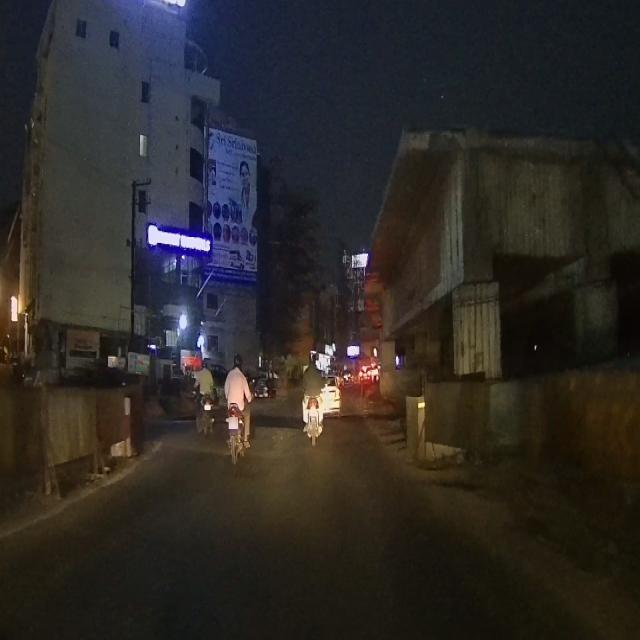barrier ahead at: (36, 383, 118, 499)
motorcycle ahead at: (224, 396, 255, 464), (298, 392, 328, 443)
